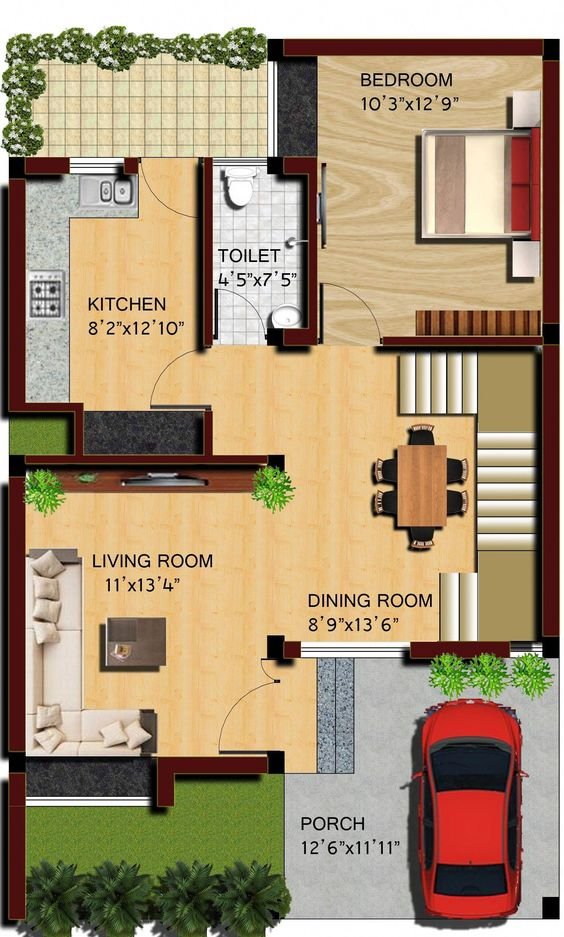door: (214, 658, 288, 756), (209, 280, 276, 343), (145, 347, 212, 410), (316, 282, 383, 345), (139, 157, 206, 220)
room: (8, 454, 285, 773), (309, 39, 559, 344), (7, 157, 213, 413)
window: (301, 641, 410, 660), (69, 158, 125, 176), (212, 157, 268, 169)
